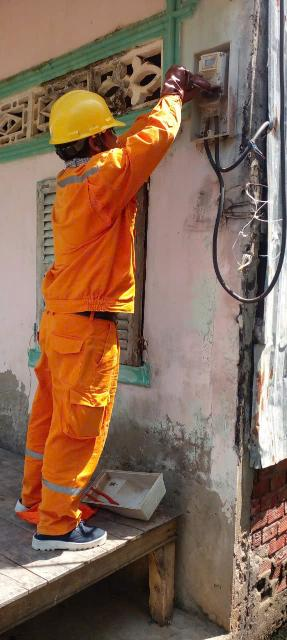gloves: (160, 66, 216, 98), (159, 58, 190, 100)
helmet: (41, 86, 125, 151)
shoes: (20, 517, 119, 561)
